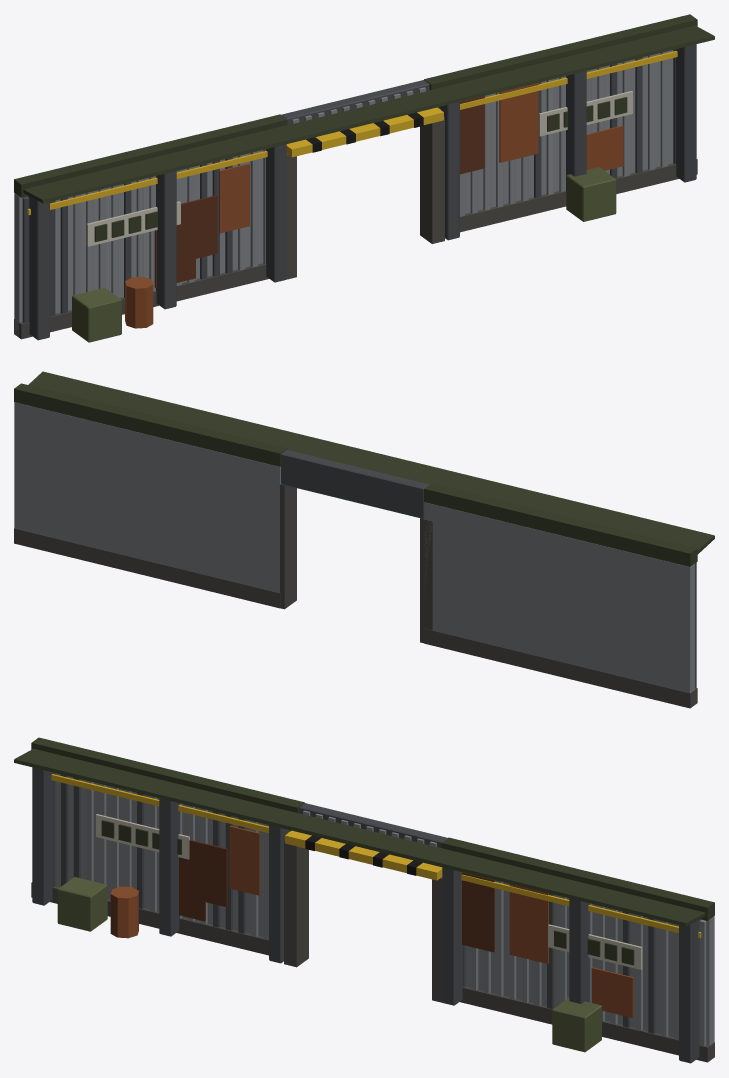
File: lmk_mil_hangar.fbx
3 views of the same model, one above another, from view 1: azimuth 30°, elevation 25°; view 2: azimuth 150°, elevation 25°; view 3: azimuth 330°, elevation 25° (orthographic).
Visible parts, largest first — view 1: lmk_mil_hangar; view 2: lmk_mil_hangar; view 3: lmk_mil_hangar.
Boxes of the visible parts, x1=… form: lmk_mil_hangar: x1=14, y1=14, x2=714, y2=342; lmk_mil_hangar: x1=14, y1=371, x2=714, y2=708; lmk_mil_hangar: x1=14, y1=737, x2=714, y2=1063.
Bounding box in the file's own units: 16 × 3.5 × 1.15.
